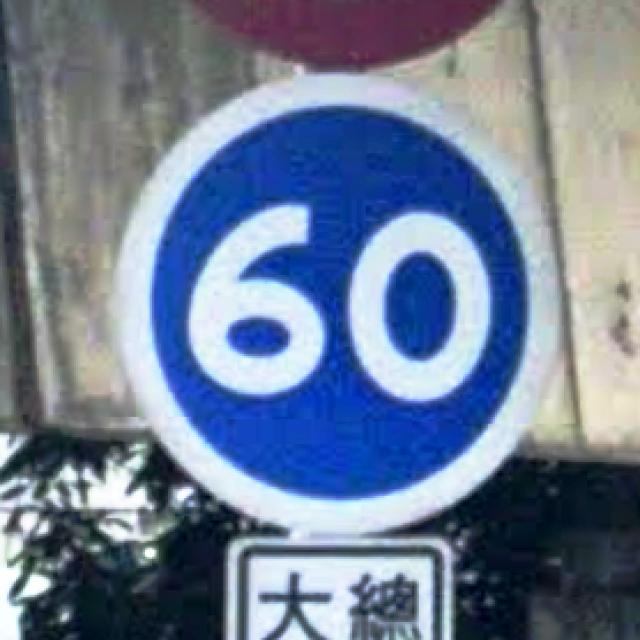min60: (108, 70, 555, 532)
